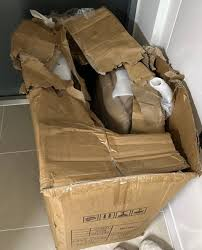damaged package: (31, 16, 190, 167), (29, 83, 60, 97)
